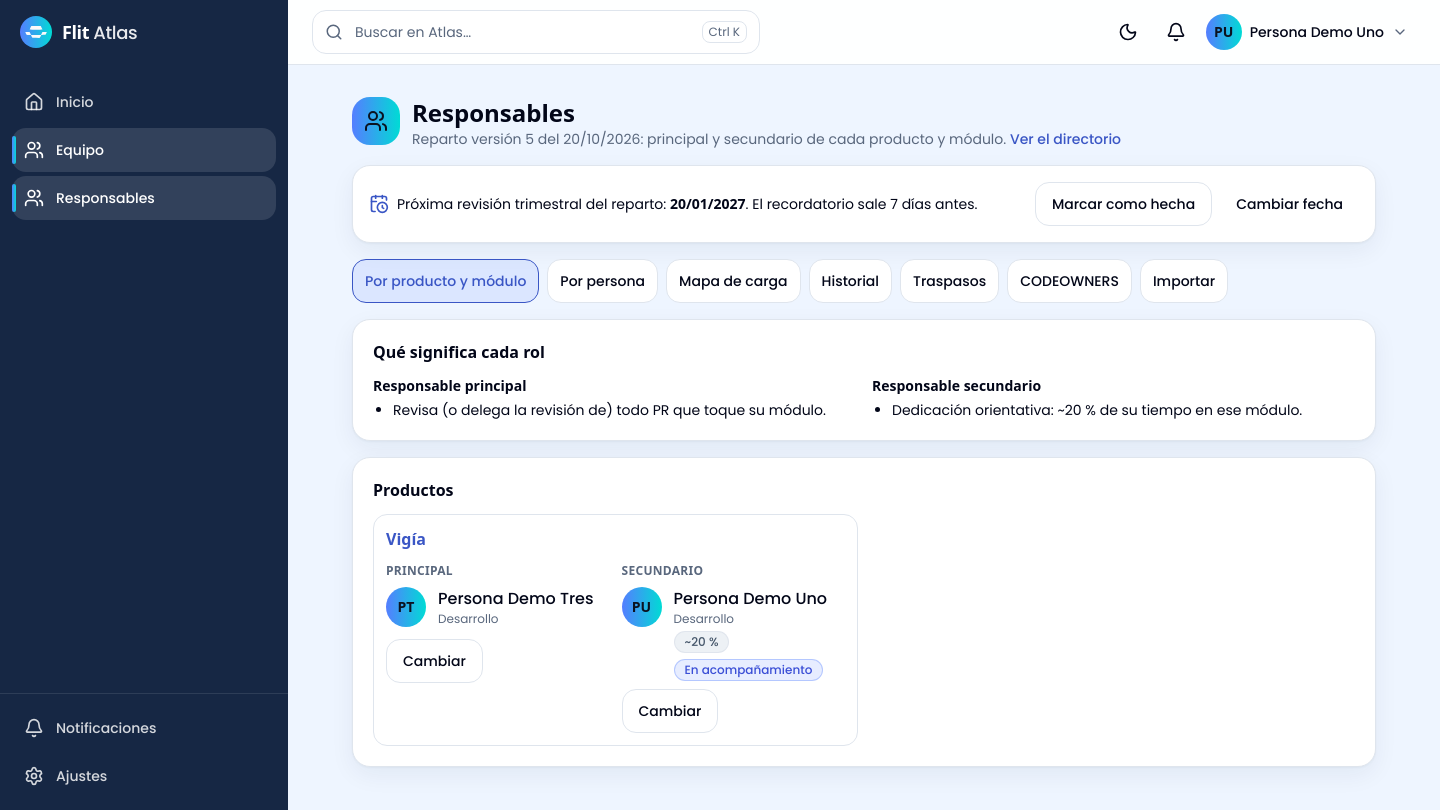
Scenario: responsables (HU 2.3 a 2.5) › quien gestiona cambia un responsable con nota y la cabecera antifalsificación
The width and height of the screenshot is (1440, 810).
Click the button with aria-label "Cambiar secundario de Vigía": (670, 711) [622,689,718,733]
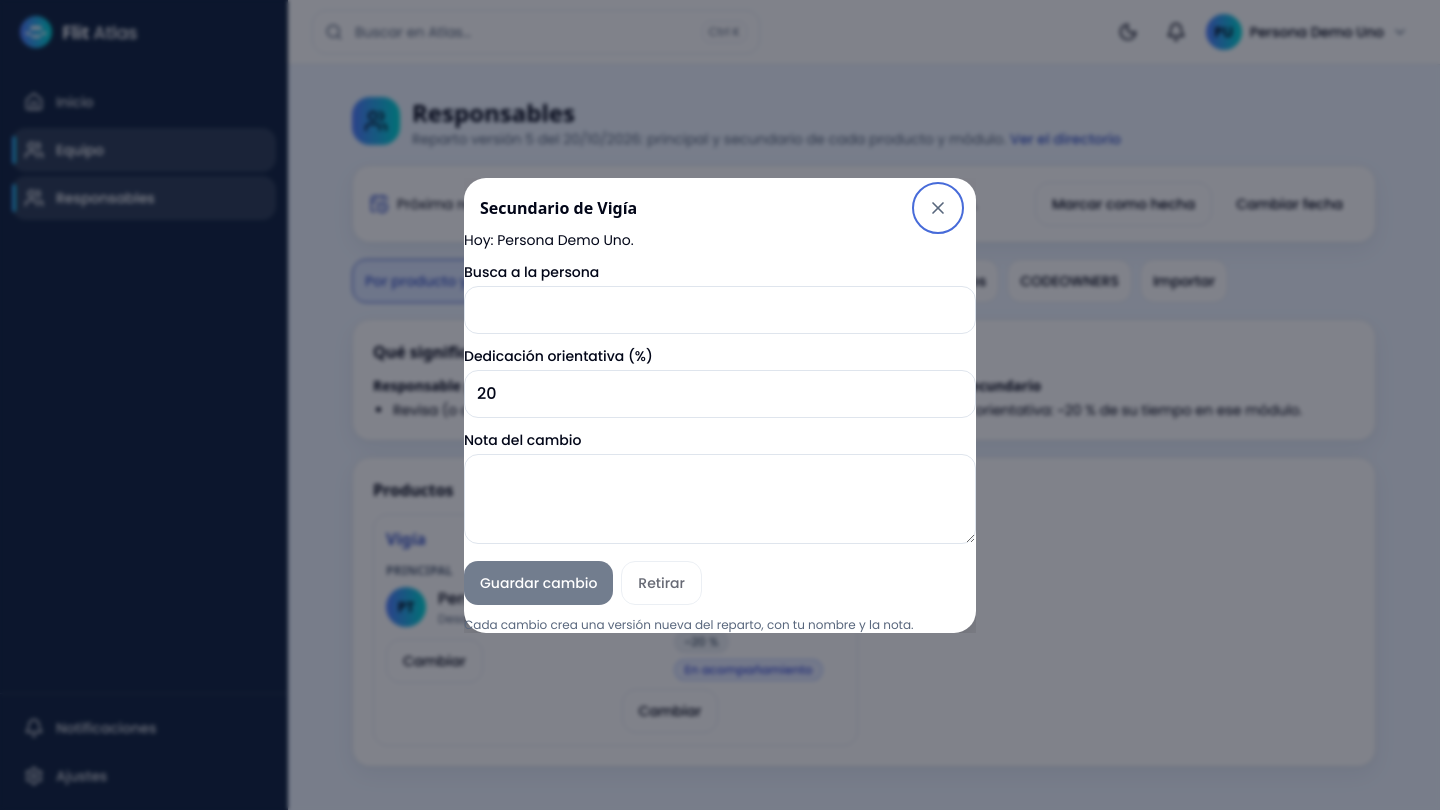
In the search field labelled "Busca a la persona": (720, 310) [464,286,976,334], type "nueve"
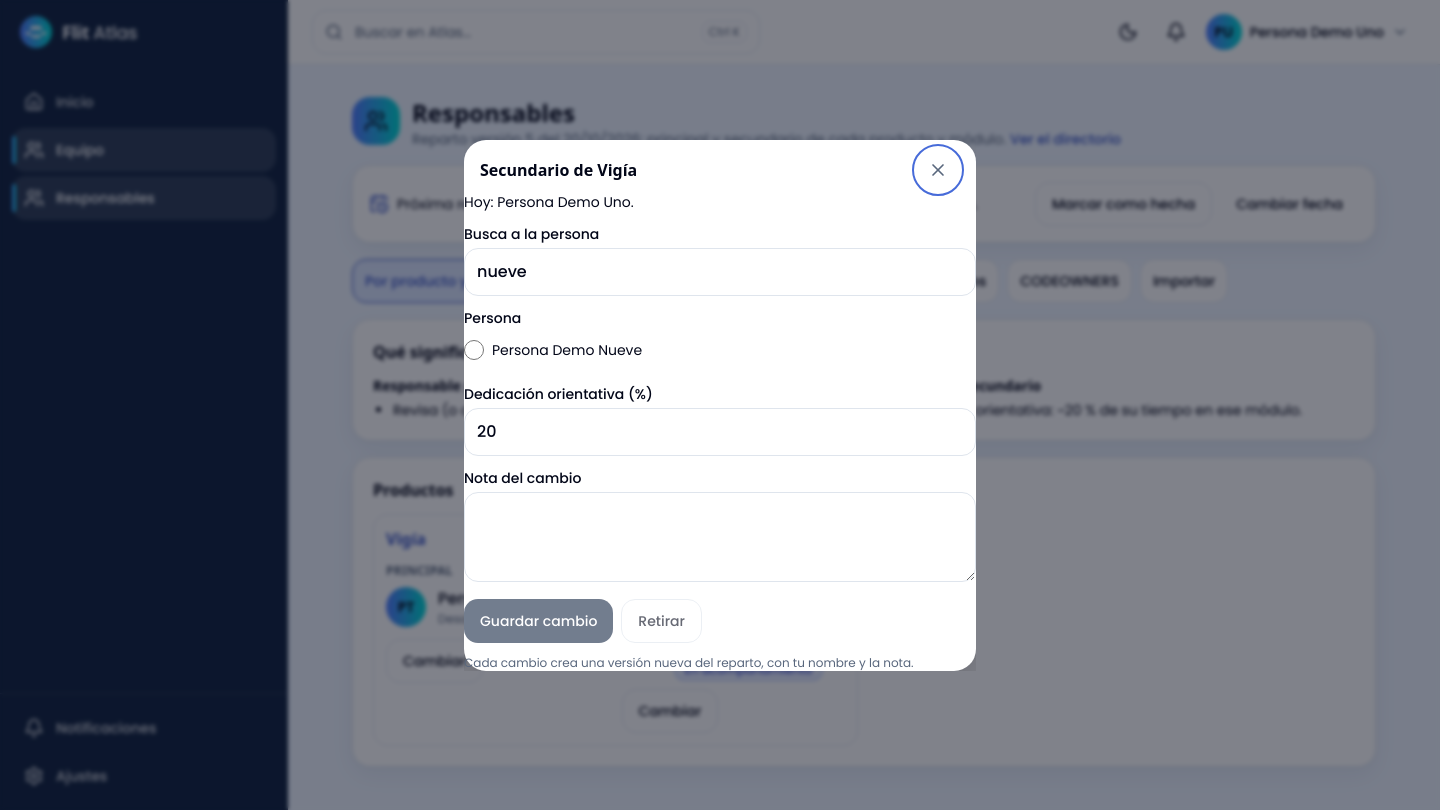
Click the radio button labelled "Persona Demo Nueve": (474, 350) [464,340,484,360]
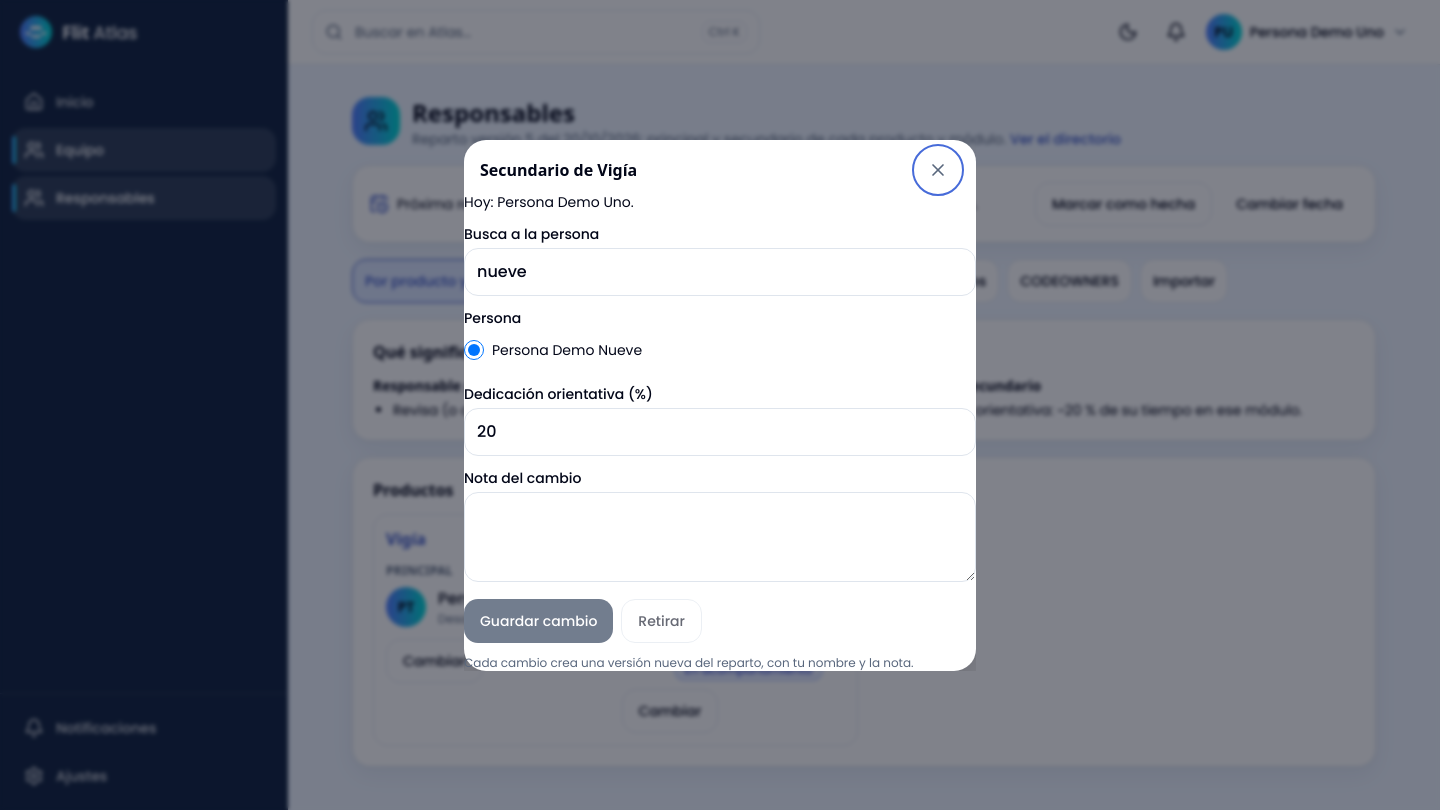
In the text box labelled "Nota del cambio": (720, 536) [464,492,976,582], type "Respaldo nuevo."
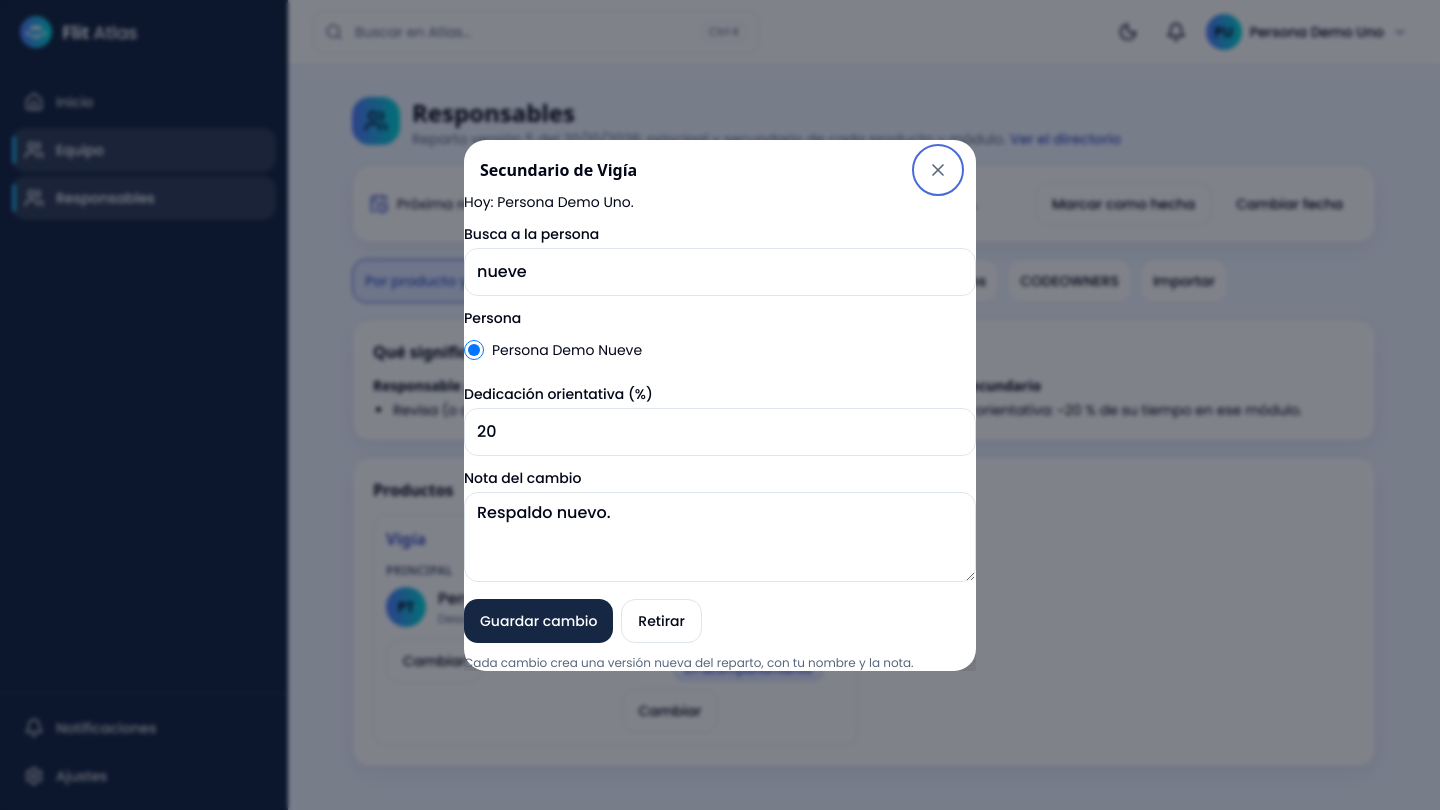
Click the button "Guardar cambio": (539, 620) [464,598,613,642]
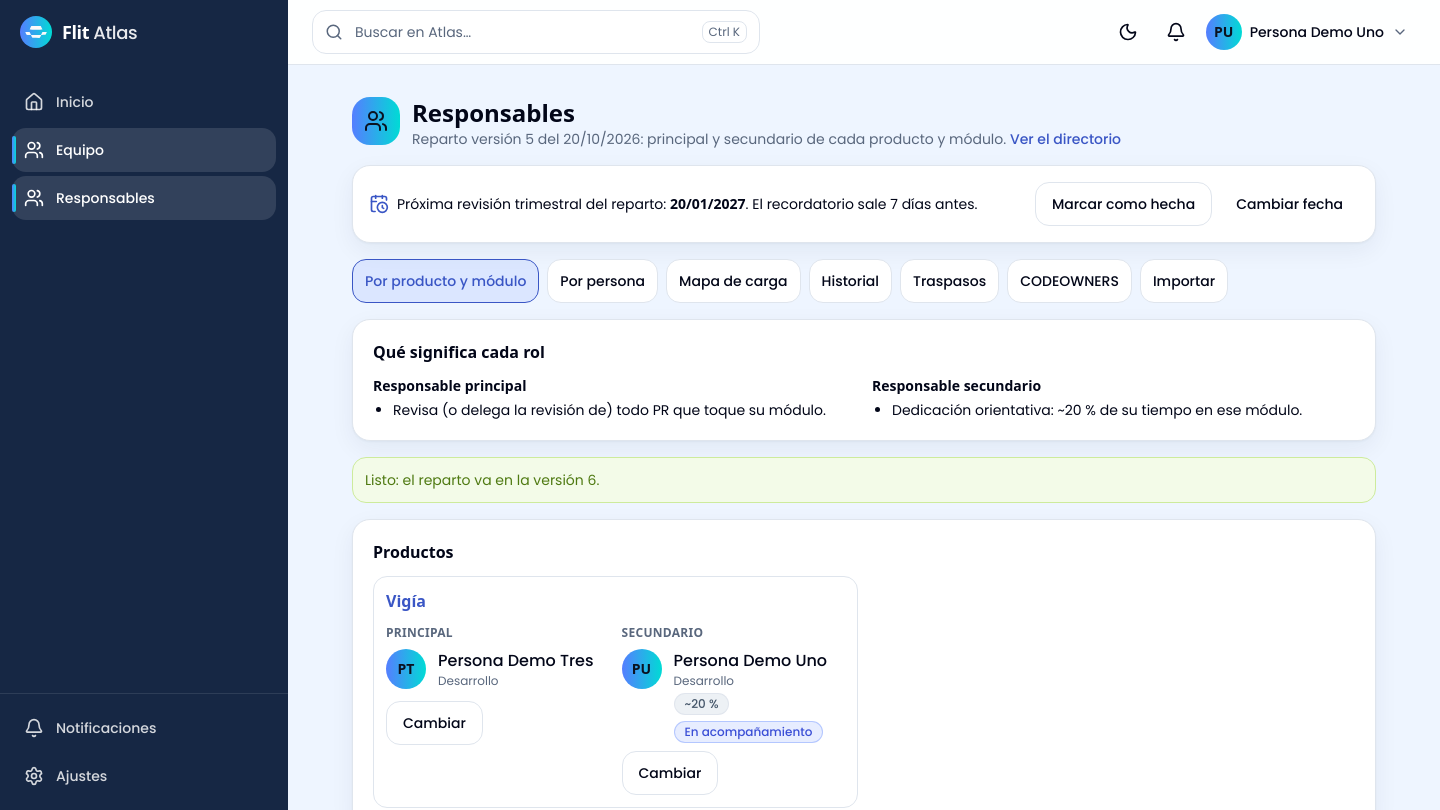
Check: the text "Listo: el reparto va en la versión 6." is shown, box [352,457,1376,503]
